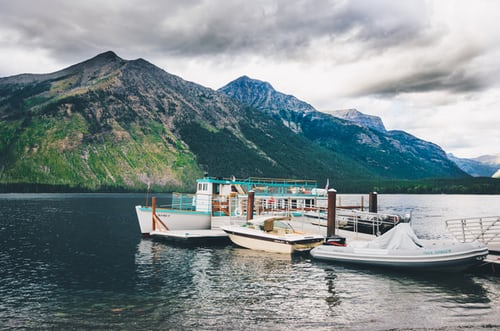yacht: (216, 204, 494, 284)
